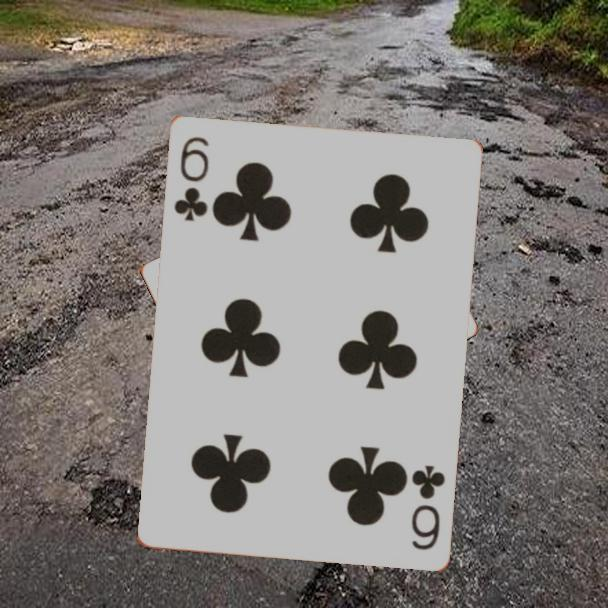c06: (407, 461, 448, 553), (170, 133, 211, 224)
